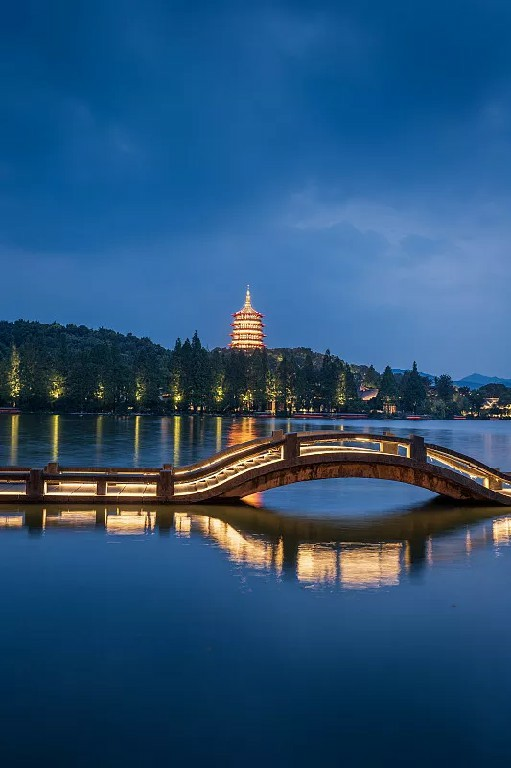Leifeng: (225, 285, 269, 352)
